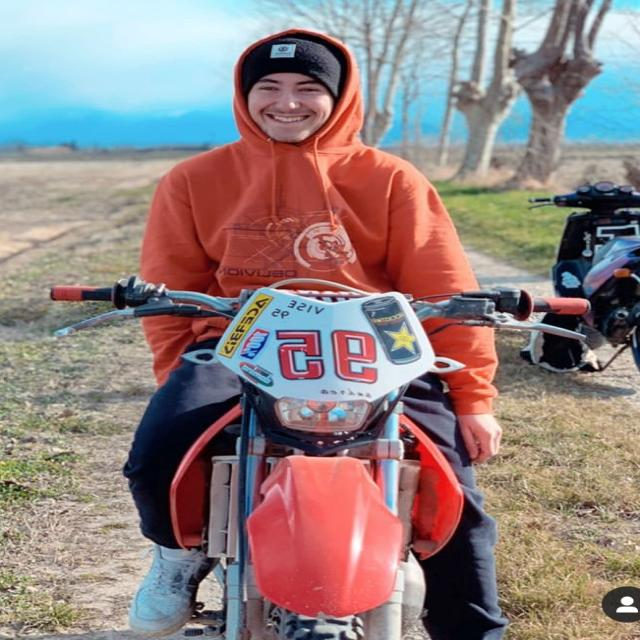no_helmet: (222, 27, 368, 148)
